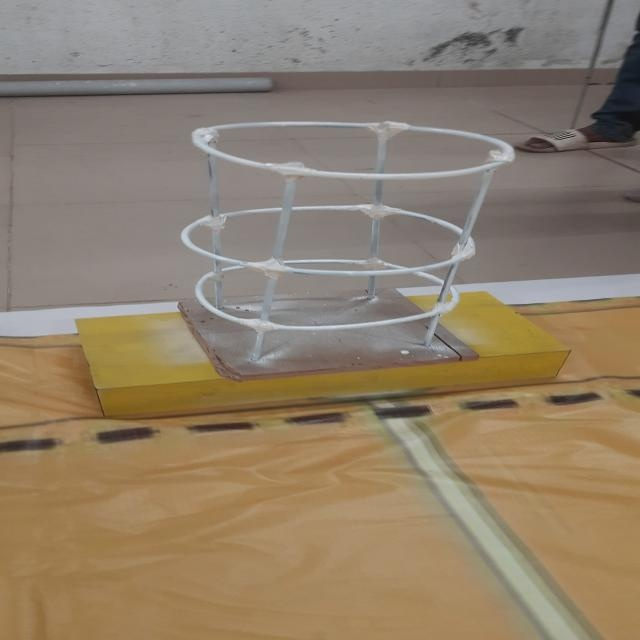silo: (174, 109, 524, 383)
